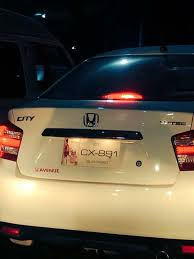Number Plate (Car): (64, 138, 122, 170)
